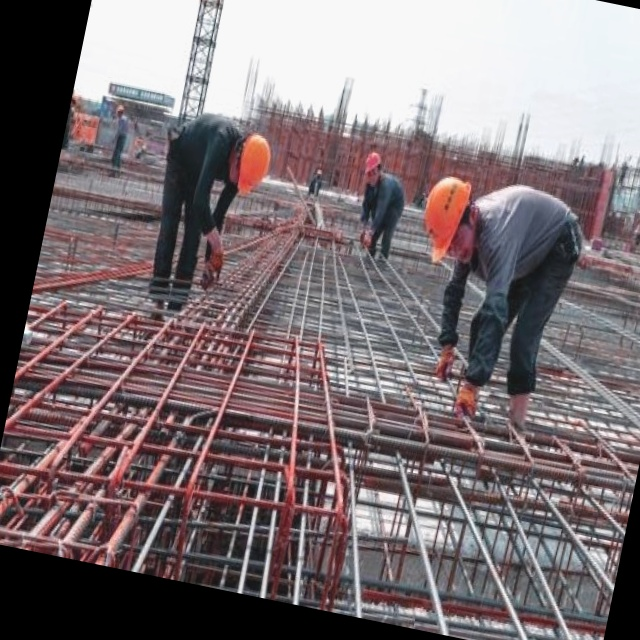Con_Casco: (415, 170, 483, 269), (224, 130, 276, 201)
